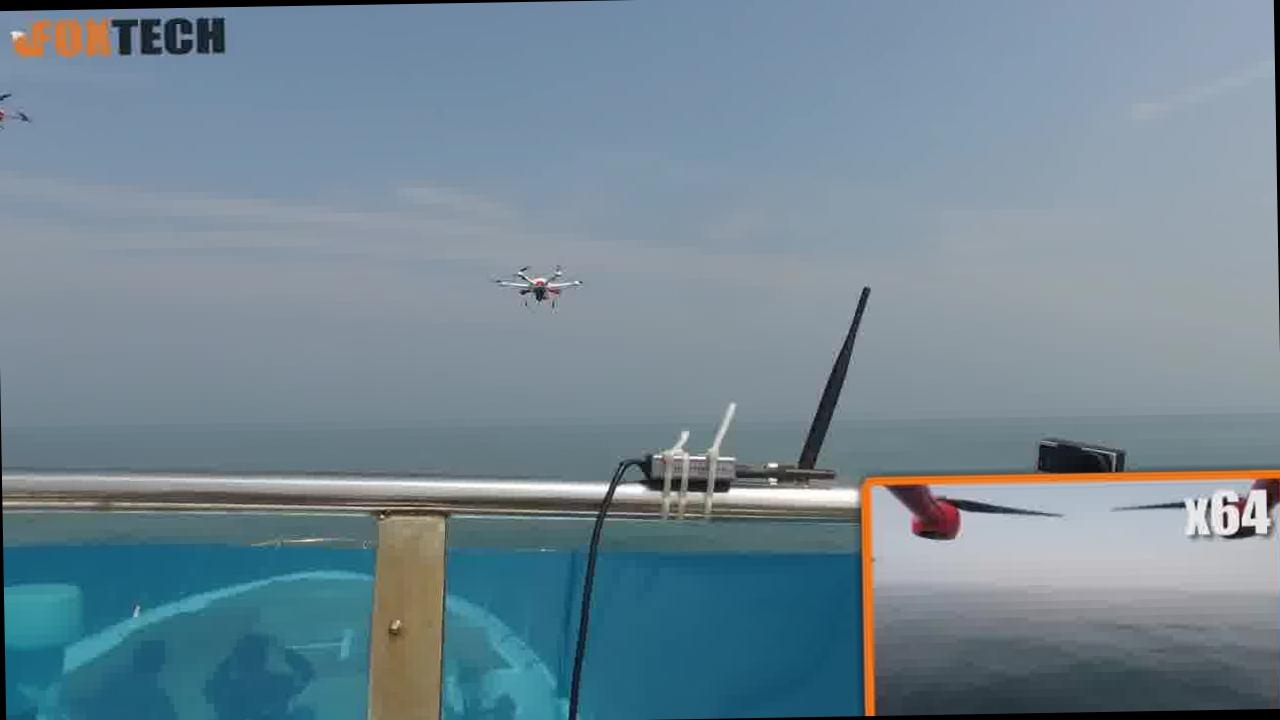drone: (485, 255, 618, 318)
